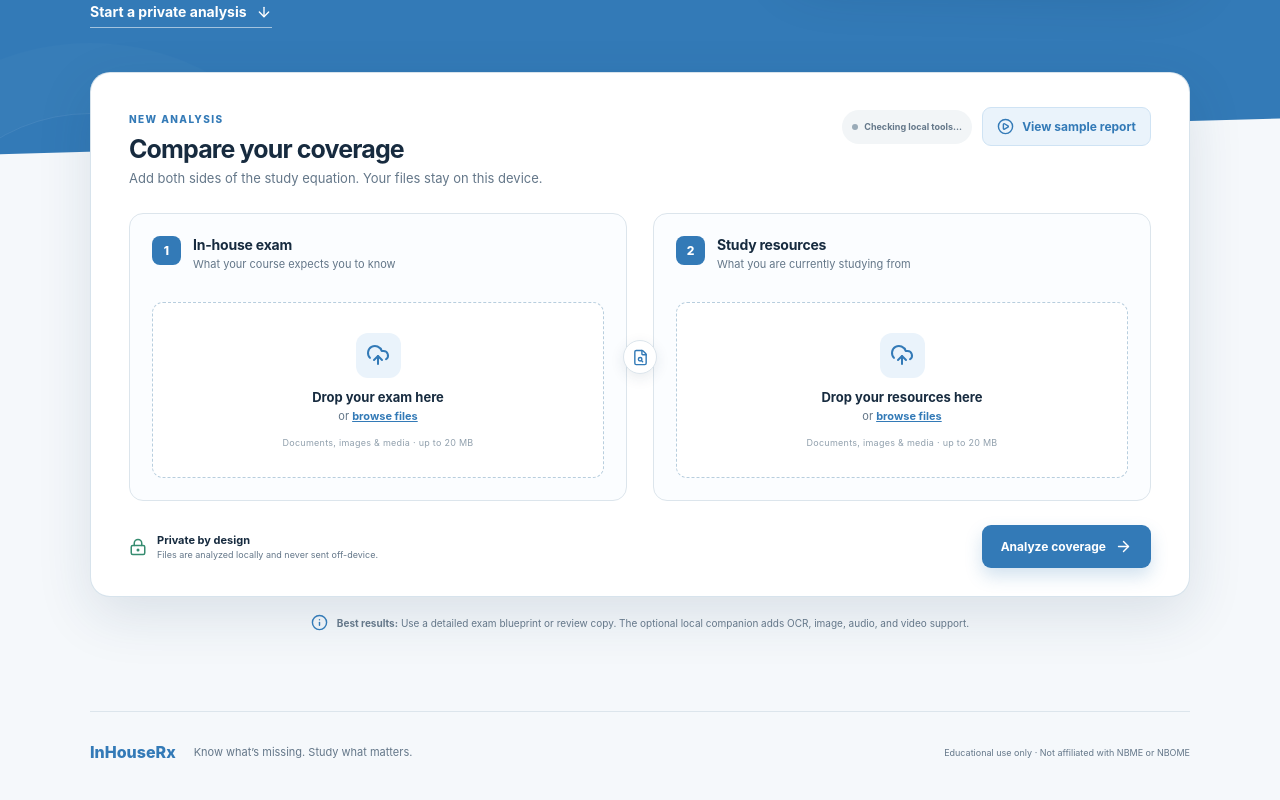
it: InHouseRx application › requires both sides of the comparison before analysis
(page scrolled)
Click the button "Analyze coverage" at (1066, 547), box [982,525,1151,568]
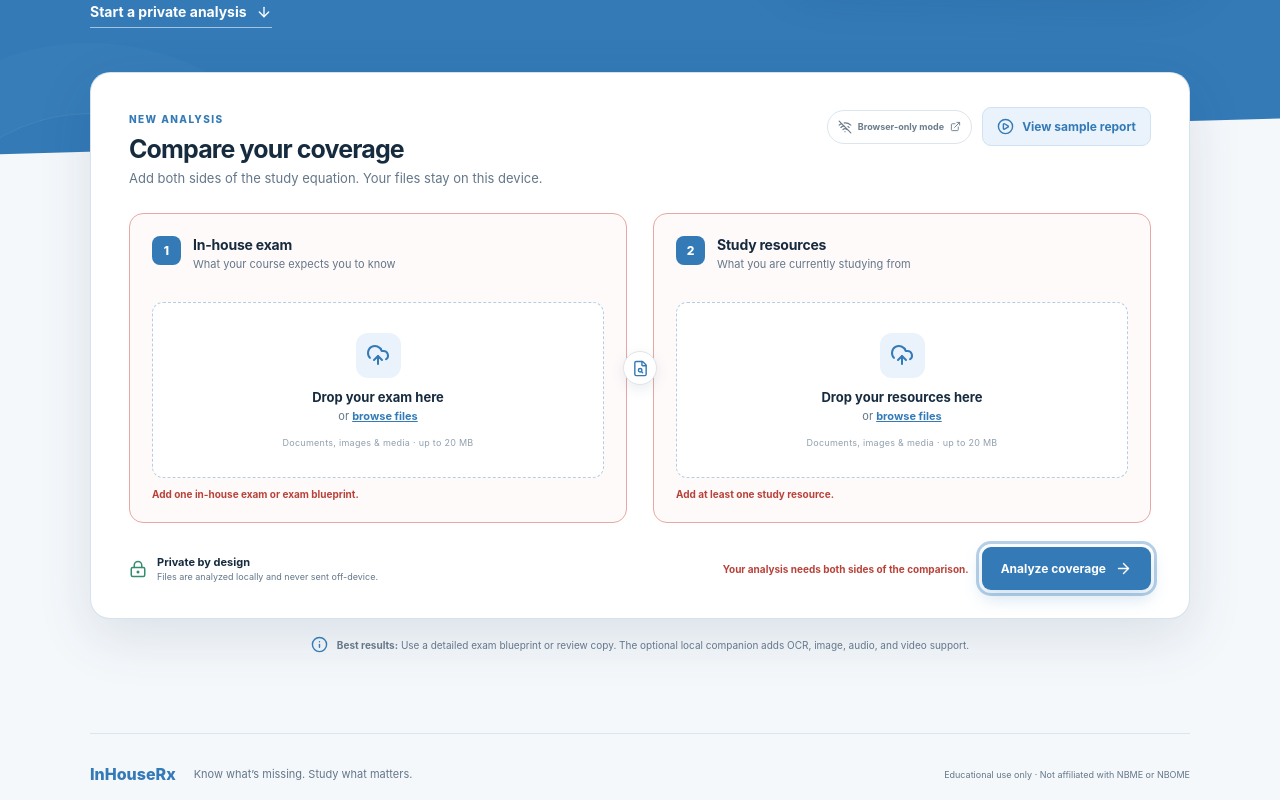
Expected: the text "Add one in-house exam or exam blueprint." is shown, [152,488,359,500]
Expected: the text "Add at least one study resource." is shown, [676,488,834,500]
Expected: the text "Your analysis needs both sides of the comparison." is shown, [723,563,969,575]
